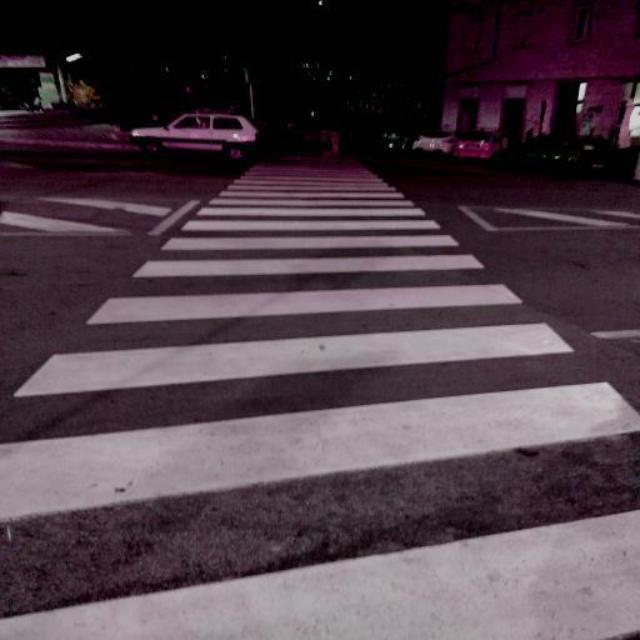sidewalk: (7, 163, 638, 632)
